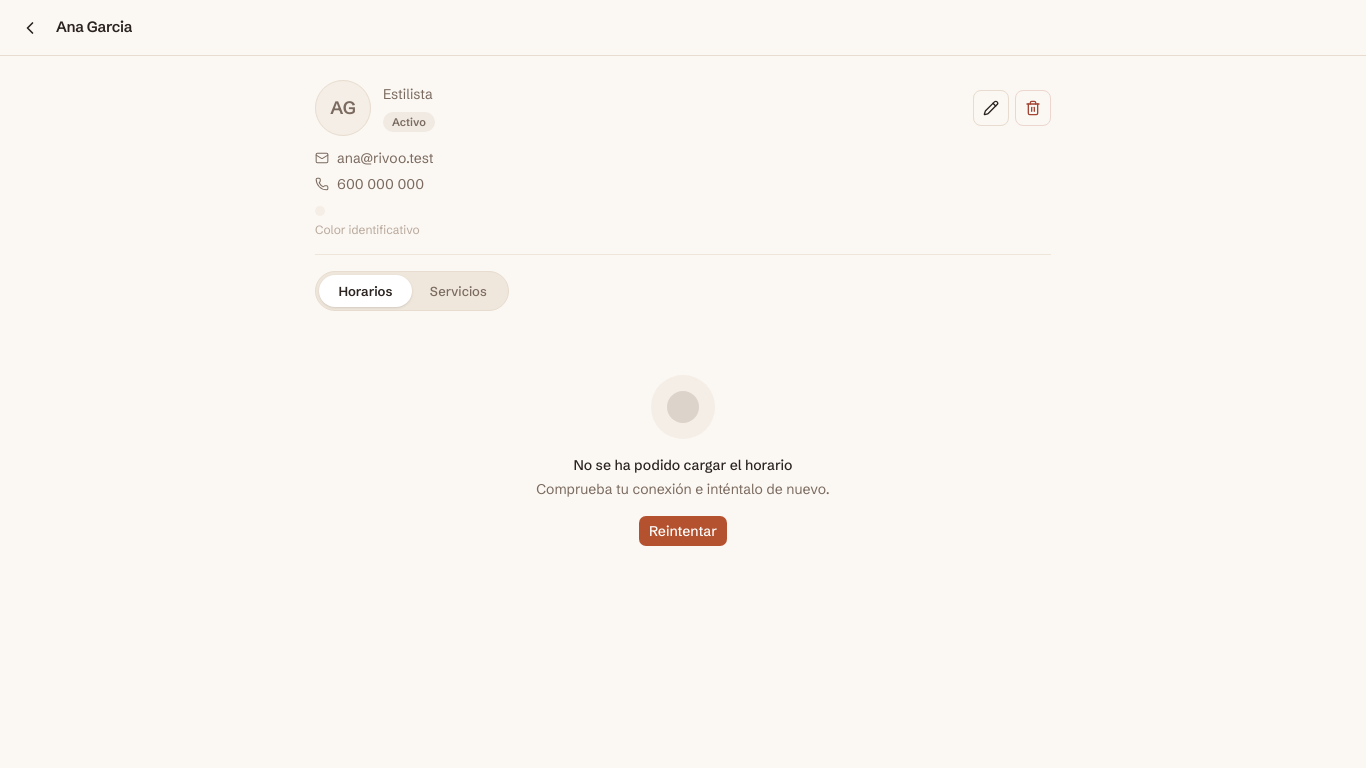
EmployeeDetailPage › shows an error with a retry action instead of an infinite skeleton in the 'Horarios' tab when the schedule fails to load, and recovers once the retry succeeds
The width and height of the screenshot is (1366, 768).
Expected: the heading "Ana Garcia" is shown, [56,16,132,39]
Expected: the heading "No se ha podido cargar el horario" is shown, [574,455,792,475]
Click the button "Reintentar". click: x=683, y=531
box: [638,515,728,547]
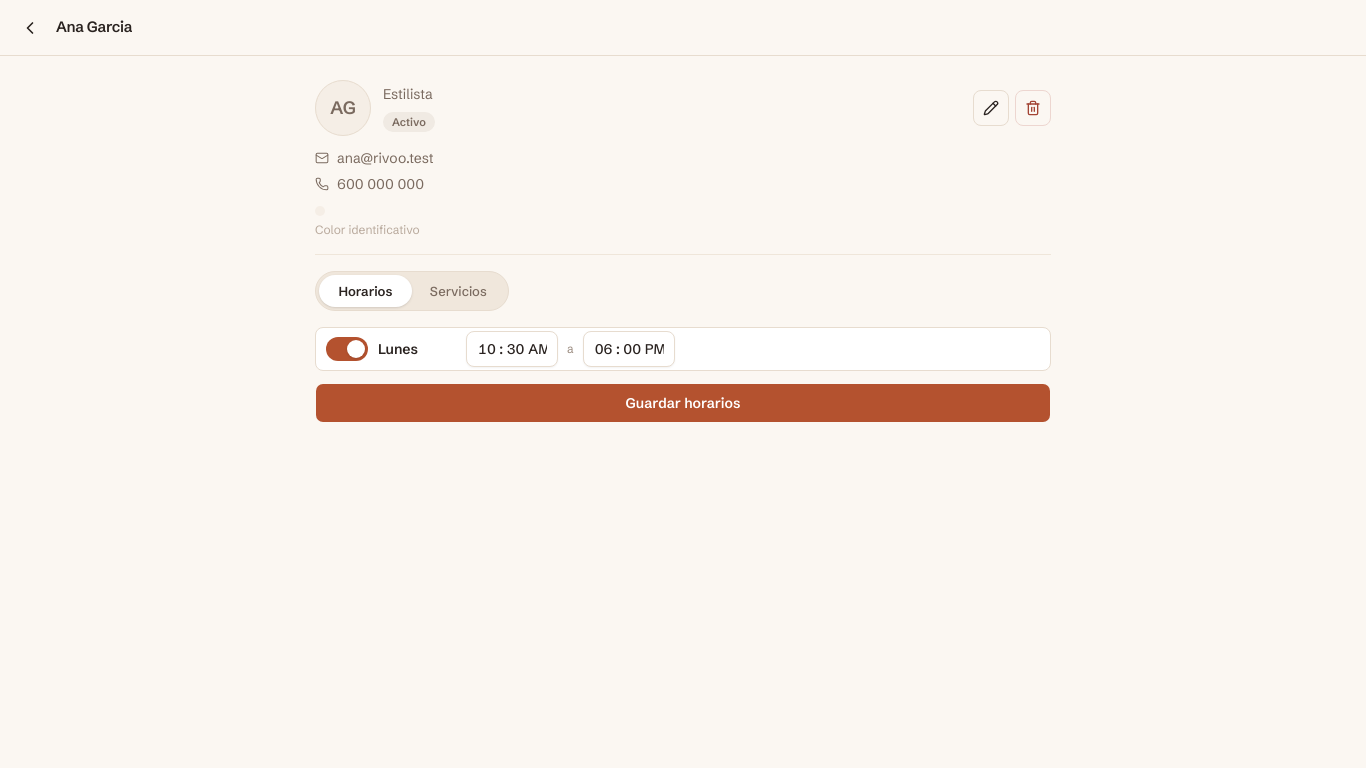
Result: the time field showing "10:30" is shown at [466,331,558,367]
Result: the heading "No se ha podido cargar el horario" is gone
